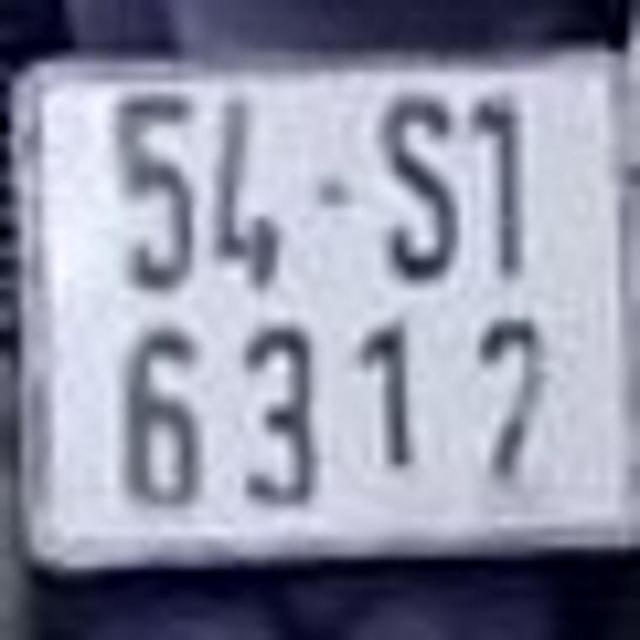1: (468, 89, 538, 289), (357, 320, 421, 521)
2: (476, 312, 574, 512)
3: (238, 321, 321, 513)
4: (204, 97, 287, 304)
5: (116, 89, 196, 290)
6: (126, 323, 206, 522)
S: (369, 88, 467, 290)
